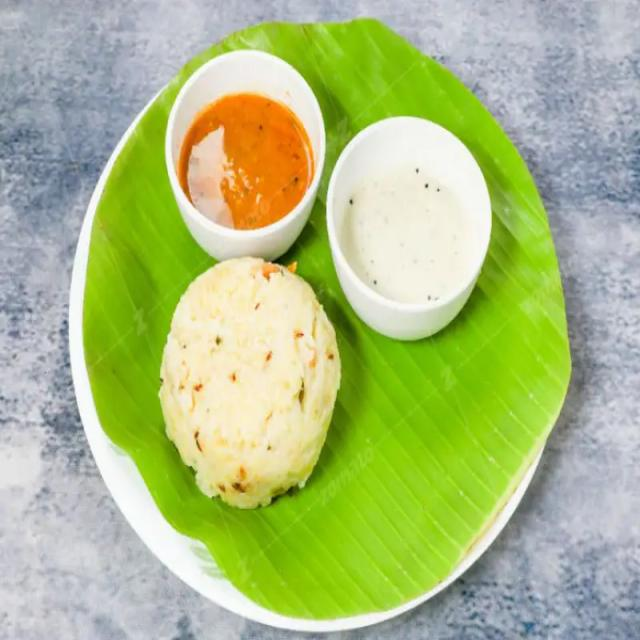PONGAL: (158, 258, 342, 510)
RED CHUTNEY: (182, 95, 314, 229)
WHITE CHUTNEY: (340, 142, 485, 297)
